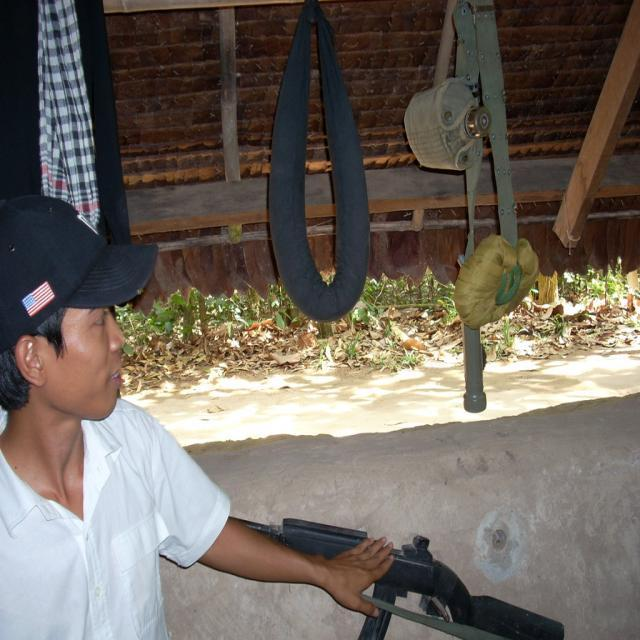weapon: (228, 518, 564, 640)
